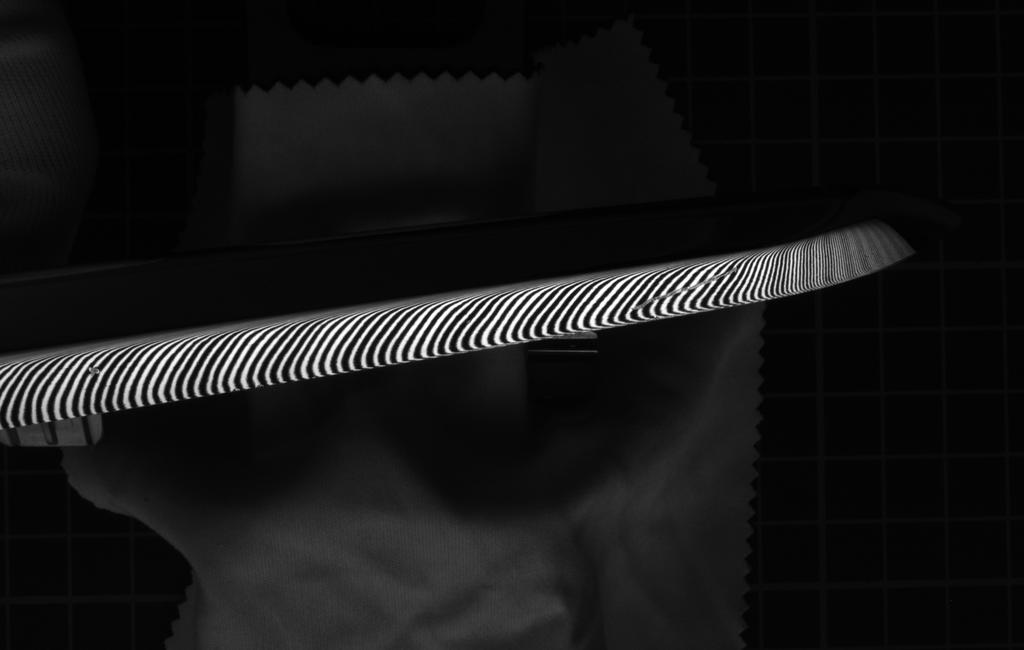Pierced: (84, 360, 109, 380)
Scratch: (625, 260, 750, 315)
